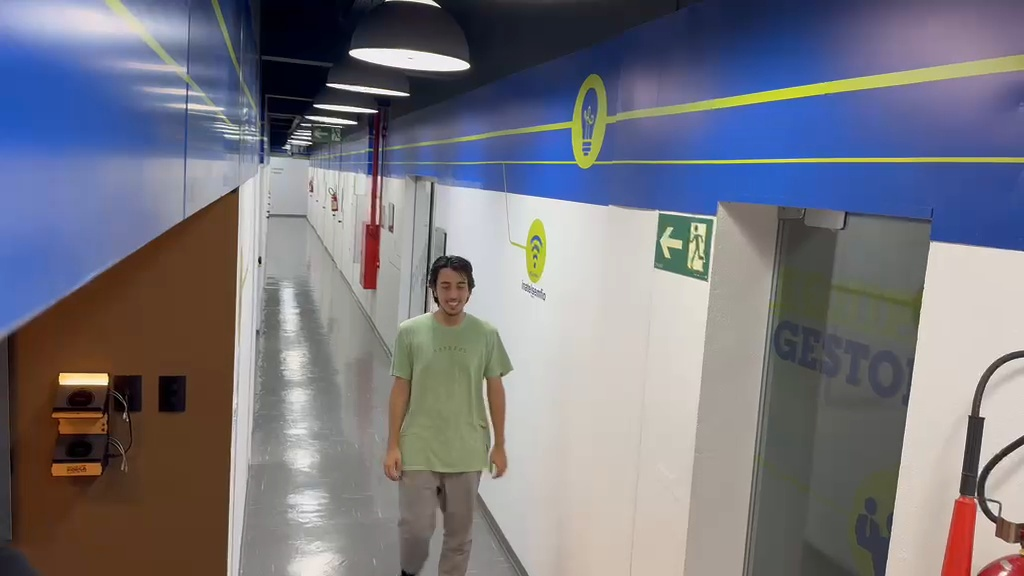person: (383, 253, 514, 573)
